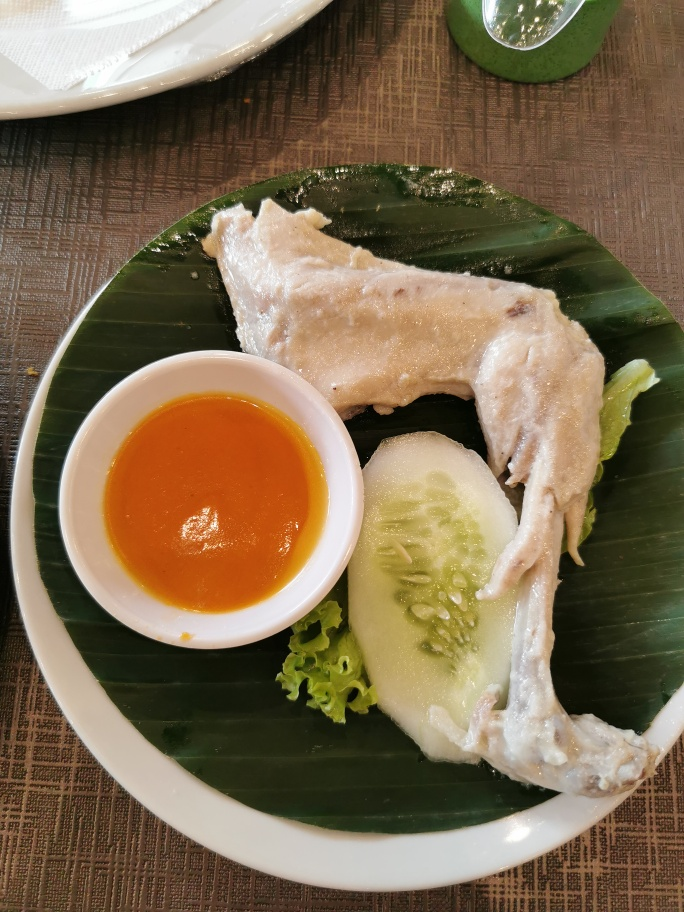ayam pop: (210, 201, 656, 806)
extra: (89, 349, 509, 770)
